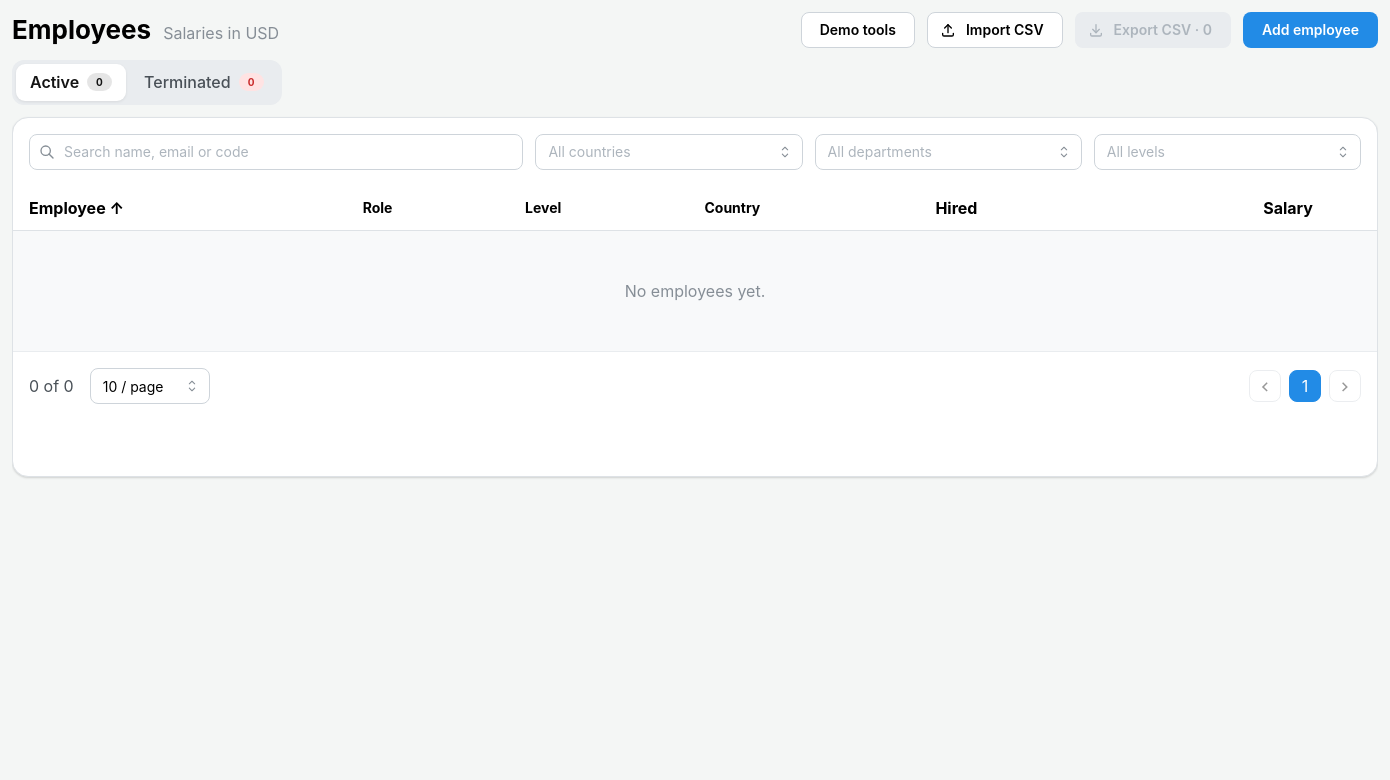
Test case: Demo tools › seeds demo data in one click, then refreshes the list
The image size is (1390, 780).
Click the button "Demo tools": point(858, 30) [801,12,915,48]
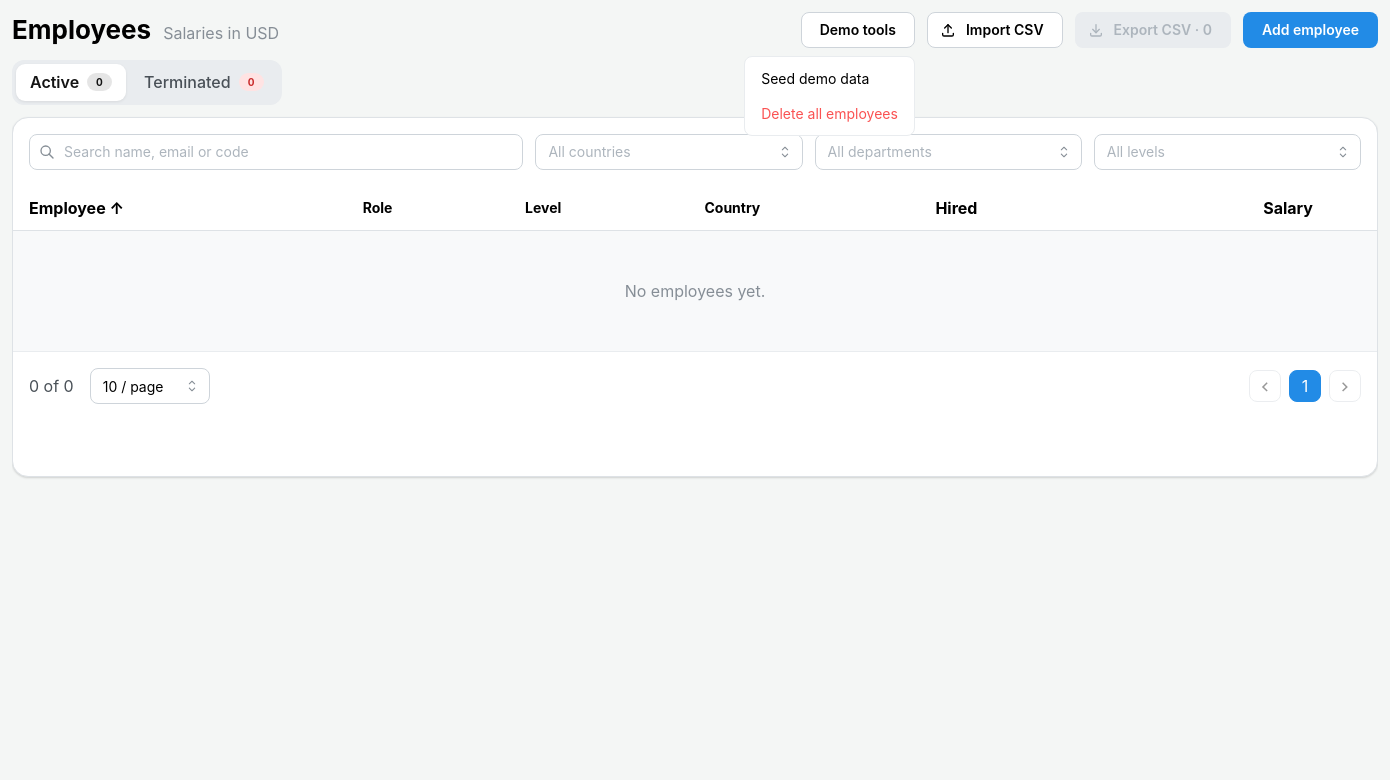
Click the menu item "Seed demo data": point(830, 78) [749,61,910,96]
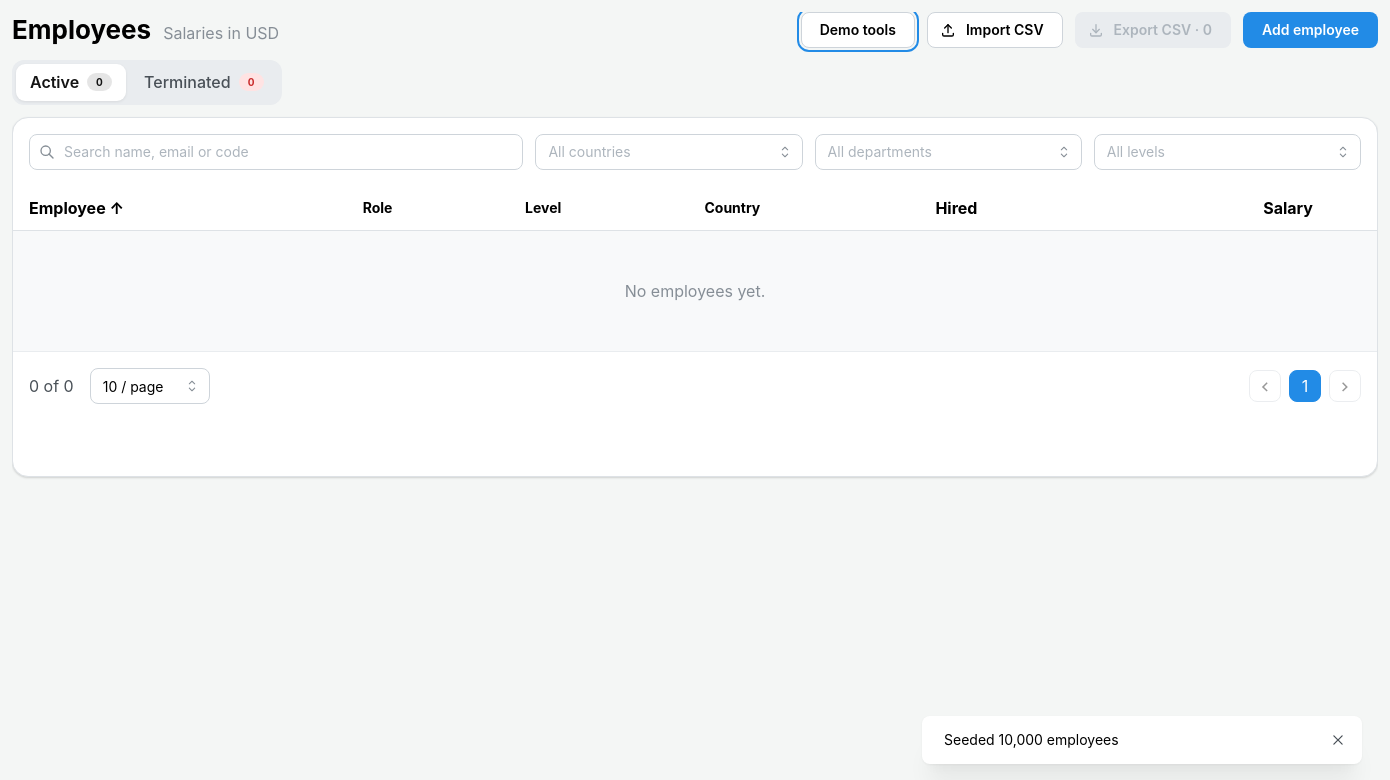
Expected: the text "Seeded 10,000 employees" is shown, [944,731,1119,748]
